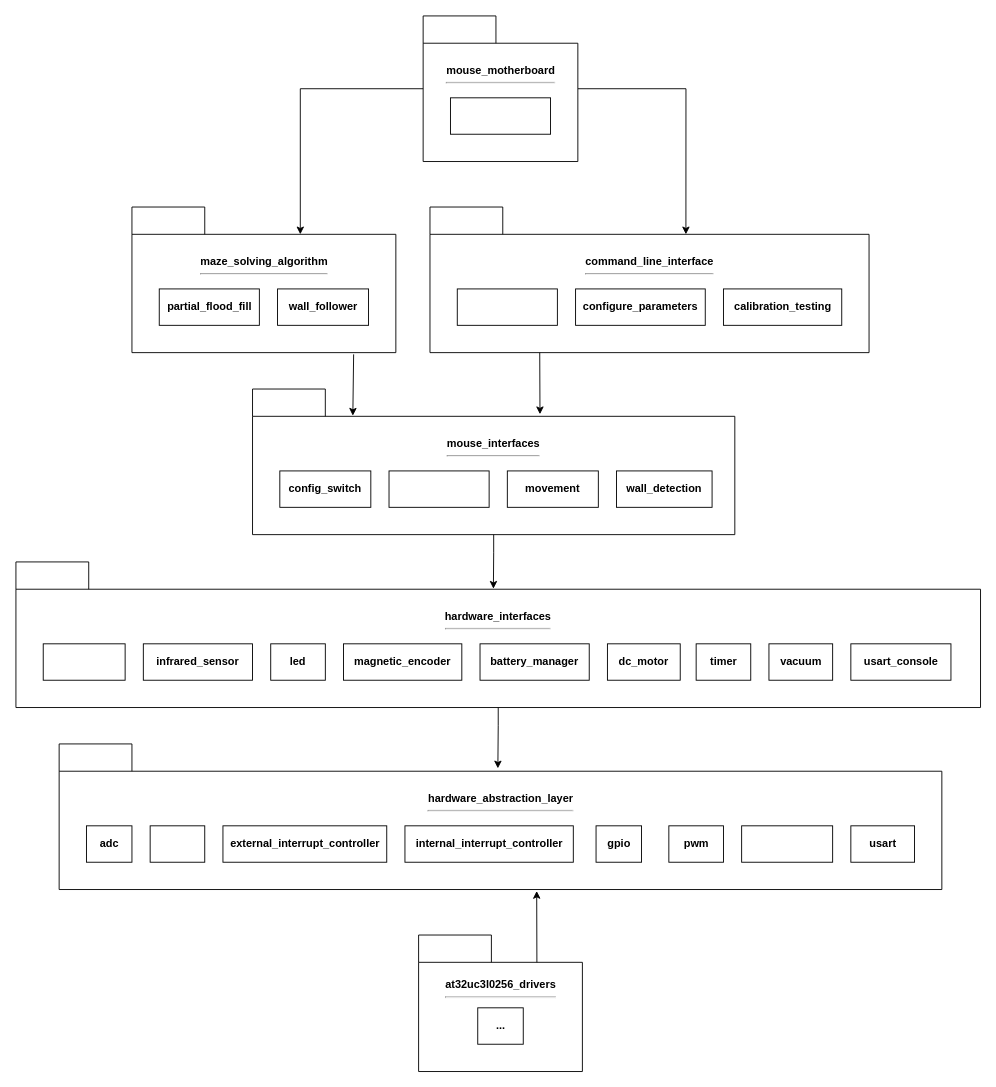
The diagram is 996 pixels wide and 1087 high, and some of its shapes have lost their labels. The shapes that lost their labels are listed below. From the top down, each one's centre as x and y in pixels, then its label:
point (500, 115): main
point (506, 306): report_status
point (438, 488): init_hardware
point (83, 661): pushbutton
point (177, 843): clock
point (787, 843): timer_counter
